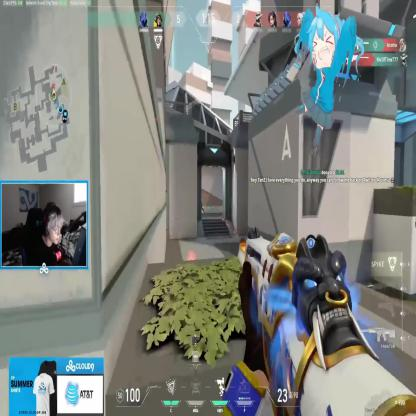enemy: (198, 195, 205, 213)
